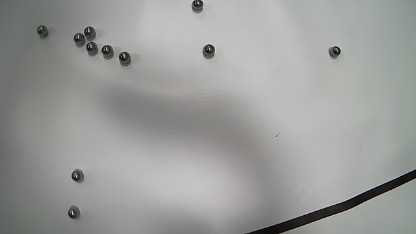ironball: (118, 51, 131, 66), (101, 45, 114, 59), (83, 26, 96, 40), (67, 205, 80, 219), (86, 41, 98, 56), (71, 169, 84, 182), (73, 33, 85, 47), (329, 45, 341, 58), (203, 44, 214, 58), (37, 25, 48, 38), (192, 0, 203, 12)
